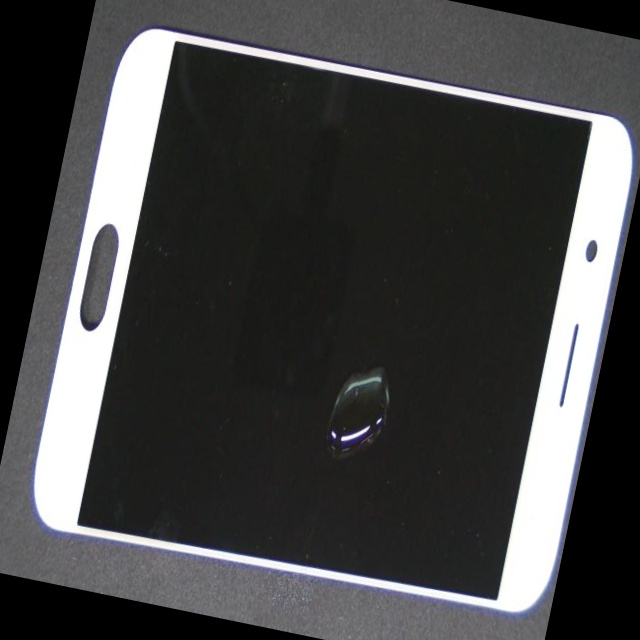oil: (183, 178, 603, 628)
